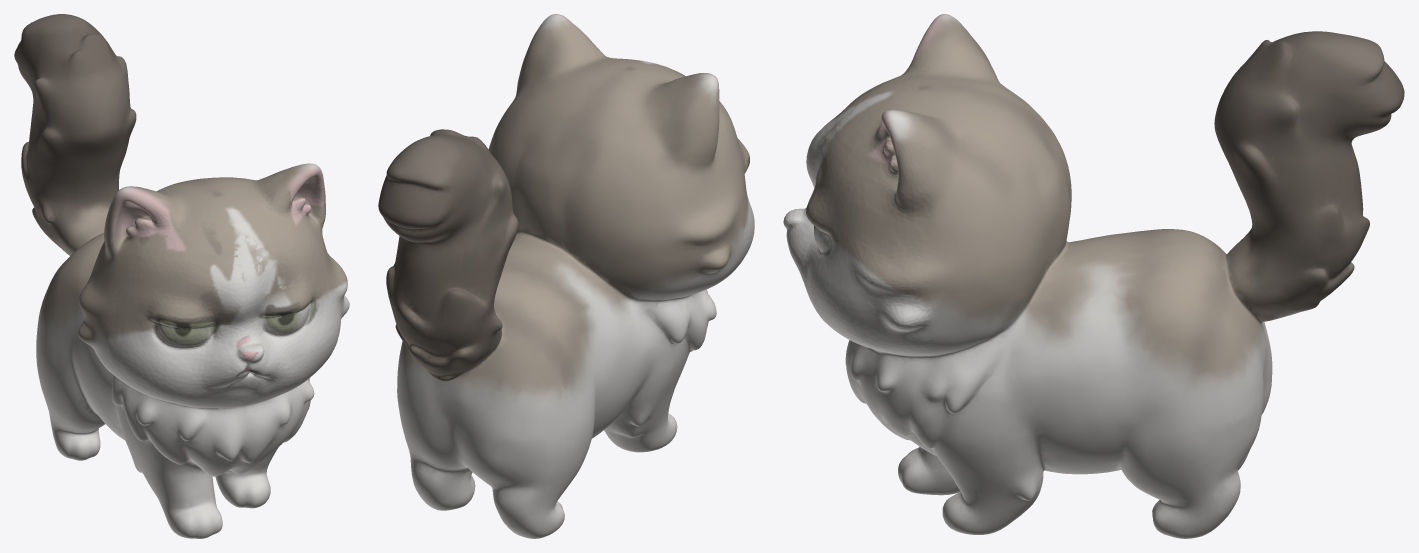
The model's file is felipe_g03_color.glb.
The picture shows the model from 3 angles, left to right: view 1: azimuth 30°, elevation 25°; view 2: azimuth 150°, elevation 25°; view 3: azimuth 270°, elevation 25°; orthographic projection. The views are drawn at different scales.
Visible parts, largest first — view 1: geometry_0; view 2: geometry_0; view 3: geometry_0.
Part boxes in pixels (x1,y1,x2,y2): geometry_0: [14, 14, 349, 538]; geometry_0: [378, 14, 754, 538]; geometry_0: [783, 14, 1404, 538].
Bounding box in the file's own units: 1.28 × 2 × 2.39.
